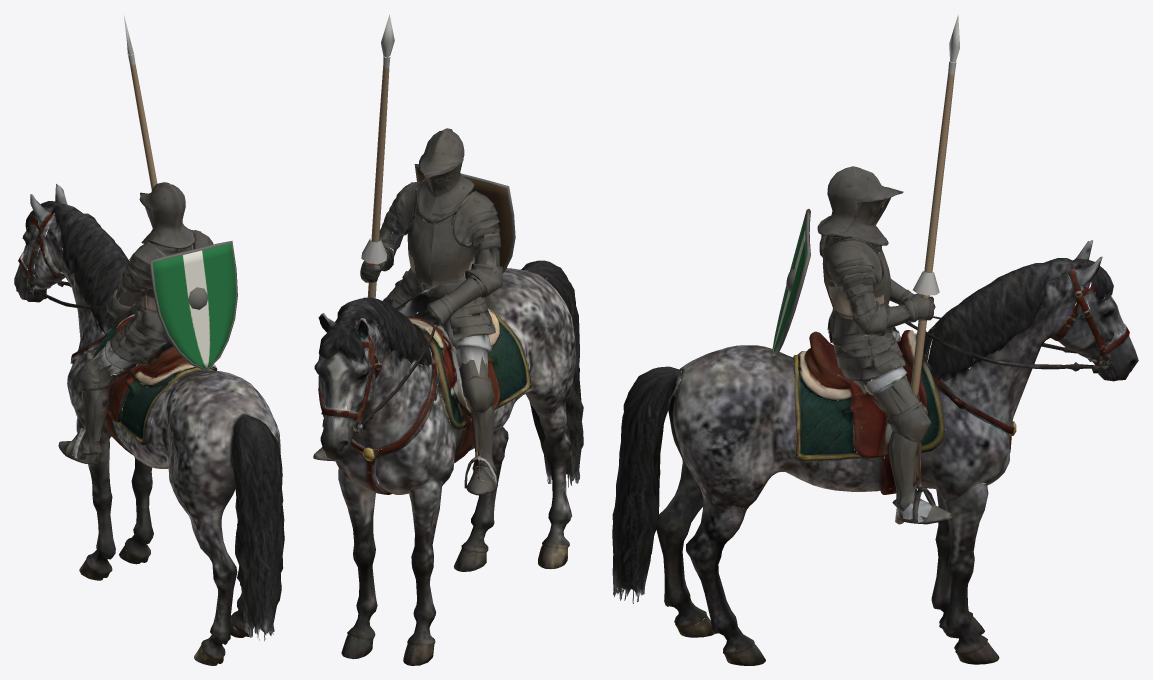
File: cavalry_parts.glb
3 views of the same model, side by side, from view 1: azimuth 30°, elevation 25°; view 2: azimuth 150°, elevation 25°; view 3: azimuth 270°, elevation 25° (orthographic). The views are drawn at different scales.
Parts seen in each view (by area): view 1: horse, shield, cuirass, helmet, lance; view 2: horse, cuirass, helmet, lance, shield; view 3: horse, cuirass, helmet, lance, shield.
Part boxes in pixels (bbox=[...]): horse: bbox=[14, 184, 284, 665]; shield: bbox=[149, 241, 237, 371]; cuirass: bbox=[58, 230, 213, 464]; helmet: bbox=[139, 182, 195, 255]; lance: bbox=[124, 16, 157, 190]; horse: bbox=[314, 260, 583, 665]; cuirass: bbox=[313, 181, 502, 495]; helmet: bbox=[415, 128, 474, 223]; lance: bbox=[361, 14, 394, 367]; shield: bbox=[414, 164, 515, 273]; horse: bbox=[612, 240, 1138, 665]; cuirass: bbox=[819, 235, 952, 524]; helmet: bbox=[817, 166, 903, 253]; lance: bbox=[895, 15, 959, 524]; shield: bbox=[771, 209, 810, 356].
Size of the model in its own units: 0.9308 by 3.33 by 2.5.
Materials: 1 (1 with a texture image).
